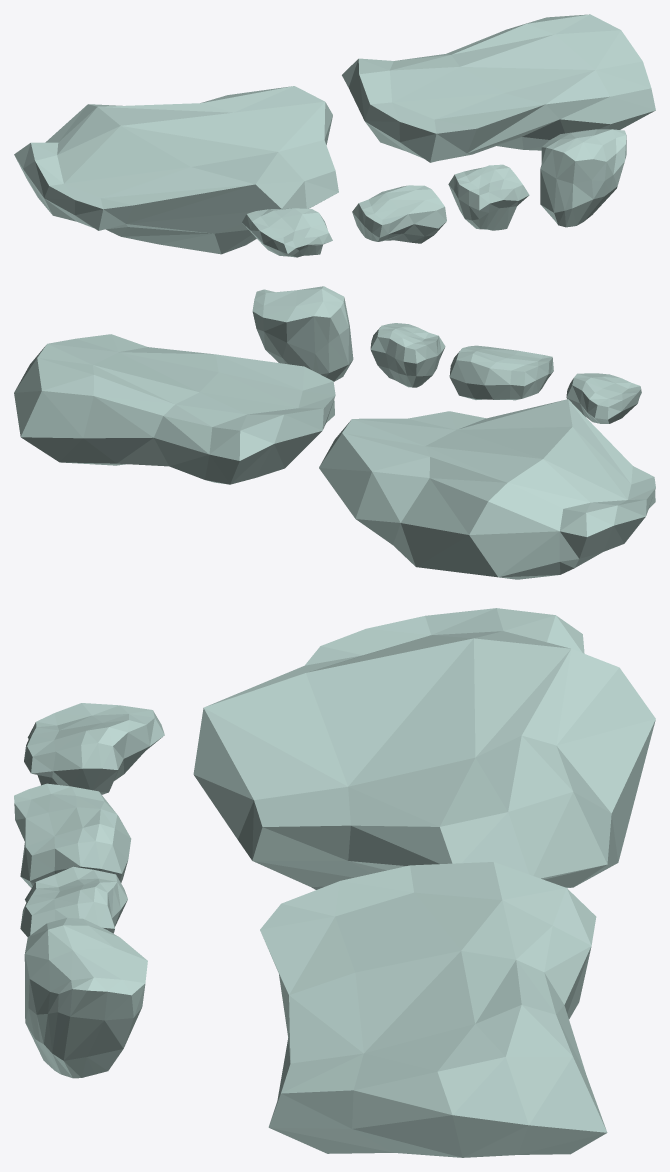
File: Icegergs.fbx
The picture shows the model from 3 angles, top to bottom: view 1: azimuth 30°, elevation 25°; view 2: azimuth 150°, elevation 25°; view 3: azimuth 270°, elevation 25°; orthographic projection. The views are drawn at different scales.
Visible parts, largest first — view 1: IslandA, IslandB, IcegergD, IcegergB, IcegergC, IcegergA; view 2: IslandA, IslandB, IcegergD, IcegergB, IcegergC, IcegergA; view 3: IslandA, IslandB, IcegergD, IcegergA, IcegergB, IcegergC.
Boxes of the visible parts, box(x1,y1,x2,y2) form: IslandA: box(14, 86, 338, 254); IslandB: box(342, 14, 655, 162); IcegergD: box(540, 129, 626, 227); IcegergB: box(352, 185, 446, 243); IcegergC: box(448, 164, 529, 230); IcegergA: box(242, 208, 332, 257); IslandA: box(319, 399, 655, 579); IslandB: box(14, 334, 335, 484); IcegergD: box(252, 286, 353, 381); IcegergB: box(449, 345, 553, 400); IcegergC: box(370, 323, 445, 387); IcegergA: box(566, 373, 641, 423); IslandA: box(193, 608, 655, 889); IslandB: box(260, 862, 607, 1157); IcegergD: box(24, 917, 147, 1078); IcegergA: box(24, 703, 164, 794); IcegergB: box(14, 783, 131, 888); IcegergC: box(20, 866, 127, 936).
Size of the model in its own units: 3090 by 594 by 1713.
